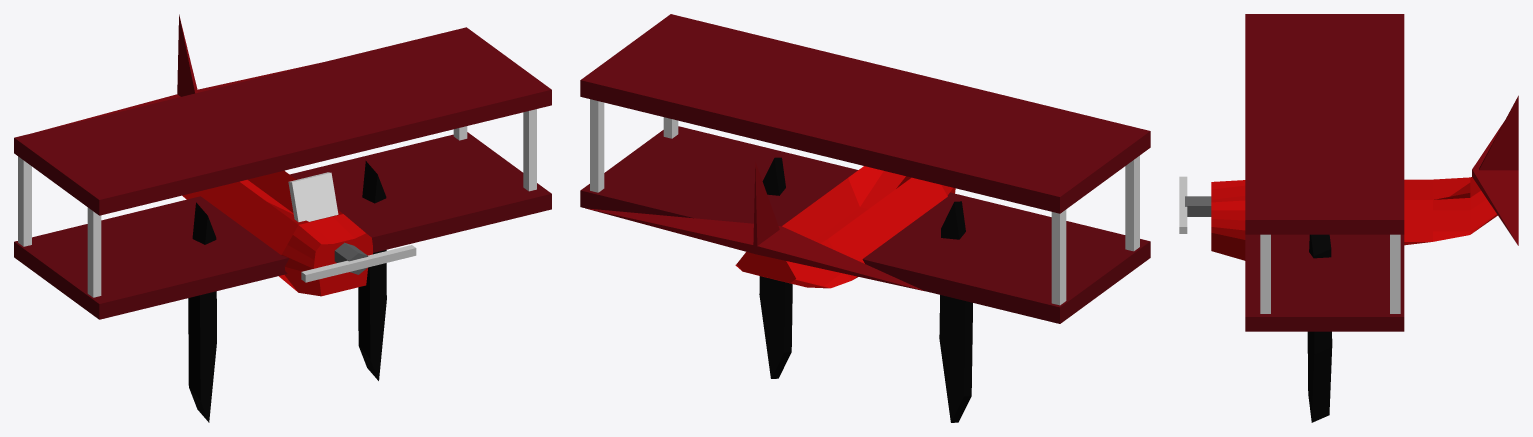
File: OldPlane.fbx
3 views of the same model, side by side, from view 1: azimuth 30°, elevation 25°; view 2: azimuth 150°, elevation 25°; view 3: azimuth 270°, elevation 25° (orthographic). The views are drawn at different scales.
Visible parts, largest first — view 1: Vleugel2, Vleugel1, AirBody1, Cylinder.002, Cylinder.001, Windshield, Flaps, PropellorProp2, Stok 3, Stok 4, Stok 1, PropellorProp1; view 2: Vleugel2, Vleugel1, AirBody1, Flaps, Cylinder.002, Cylinder.001, Stok 4, Stok 2, Stok 3; view 3: Vleugel2, Vleugel1, AirBody1, Flaps, Cylinder.001, Stok 2, Stok 1, PropellorProp1, PropellorProp2.
Part boxes in pixels (x1,y1,x2,y2): Vleugel2: (14, 27, 551, 215); Vleugel1: (14, 132, 551, 319); AirBody1: (182, 170, 372, 296); Cylinder.002: (188, 202, 216, 422); Cylinder.001: (358, 161, 386, 380); Windshield: (288, 172, 338, 222); Flaps: (40, 14, 320, 131); PropellorProp2: (301, 245, 416, 282); Stok 3: (87, 207, 101, 297); Stok 4: (18, 156, 31, 246); Stok 1: (523, 109, 536, 191); PropellorProp1: (334, 242, 368, 274); Vleugel2: (580, 14, 1150, 213); Vleugel1: (580, 126, 1150, 323); AirBody1: (735, 166, 955, 288); Flaps: (585, 162, 924, 291); Cylinder.002: (939, 201, 972, 422); Cylinder.001: (759, 157, 792, 378); Stok 4: (1051, 209, 1066, 305); Stok 2: (590, 99, 604, 192); Stok 3: (1125, 155, 1139, 251); Vleugel2: (1245, 14, 1404, 234); Vleugel1: (1245, 234, 1404, 331); AirBody1: (1211, 177, 1497, 260); Flaps: (1472, 95, 1518, 245); Cylinder.001: (1307, 234, 1332, 422); Stok 2: (1390, 234, 1400, 313); Stok 1: (1260, 234, 1270, 313); PropellorProp1: (1185, 196, 1211, 216); PropellorProp2: (1179, 176, 1187, 233).
Size of the model in its own units: 451 by 293 by 314.
